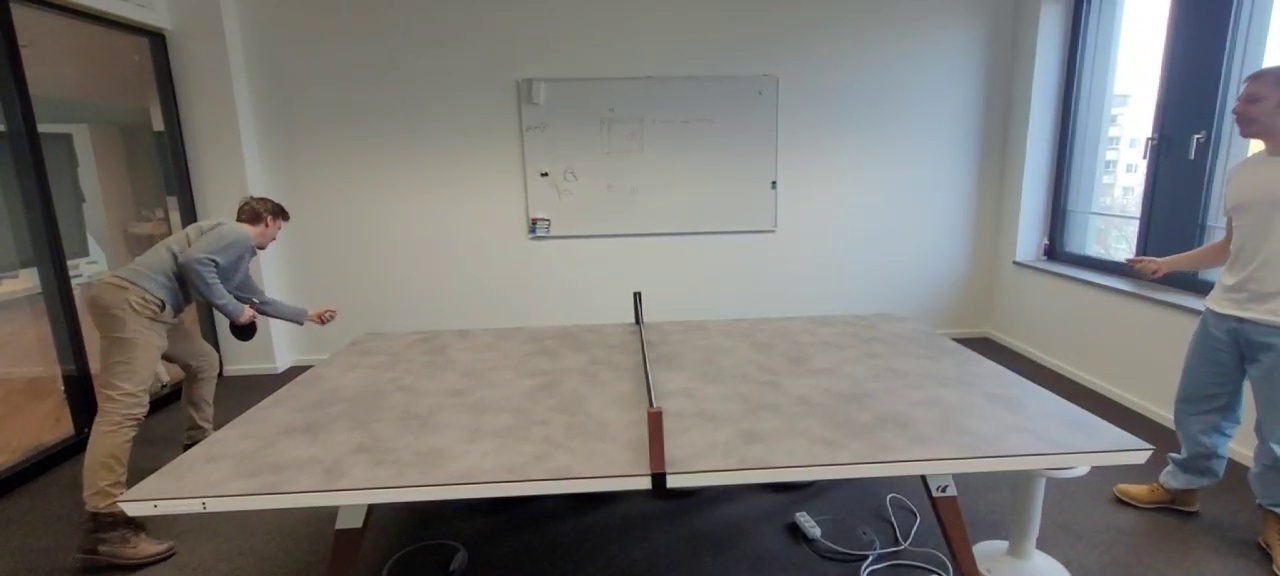1: (229, 320, 257, 342)
2: (325, 312, 334, 318)
ttplatte: (114, 312, 1154, 499)
